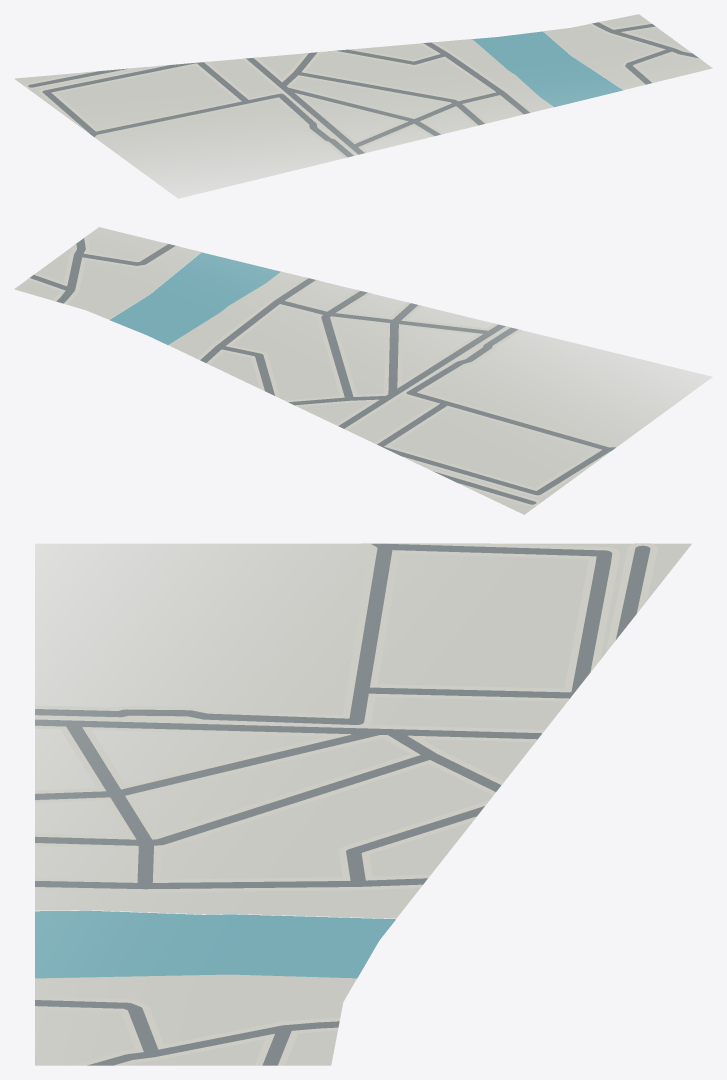
3 views of the same model, one above another, from view 1: azimuth 30°, elevation 25°; view 2: azimuth 150°, elevation 25°; view 3: azimuth 270°, elevation 25° (orthographic). The views are drawn at different scales.
Parts seen in each view (by area): view 1: city; view 2: city; view 3: city.
Boxes of the visible parts, <box> form: city: <box>14,14,712,198</box>; city: <box>14,227,712,514</box>; city: <box>35,543,691,1065</box>.
Size of the model in its own units: 500 by 0.4 by 266.
